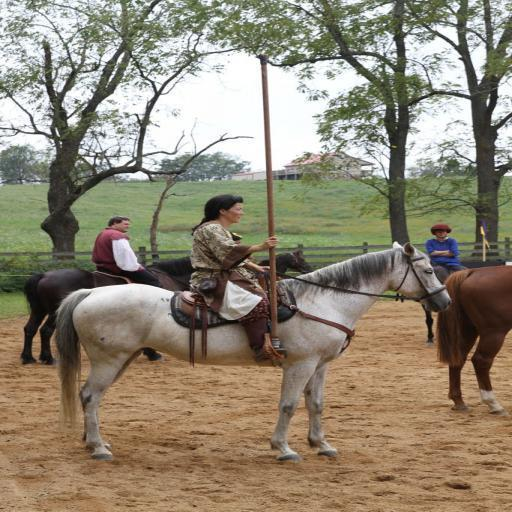horse: (46, 237, 450, 461), (20, 256, 197, 368), (430, 267, 512, 417), (259, 248, 314, 280)
